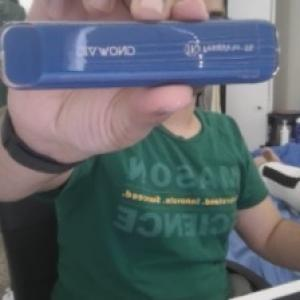Diamond-E-Ciggirate: (1, 13, 281, 93)
